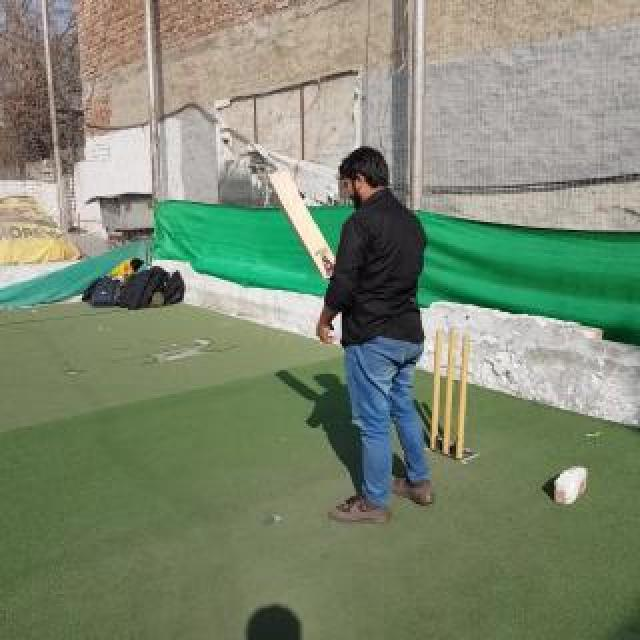bat: (270, 170, 336, 280)
